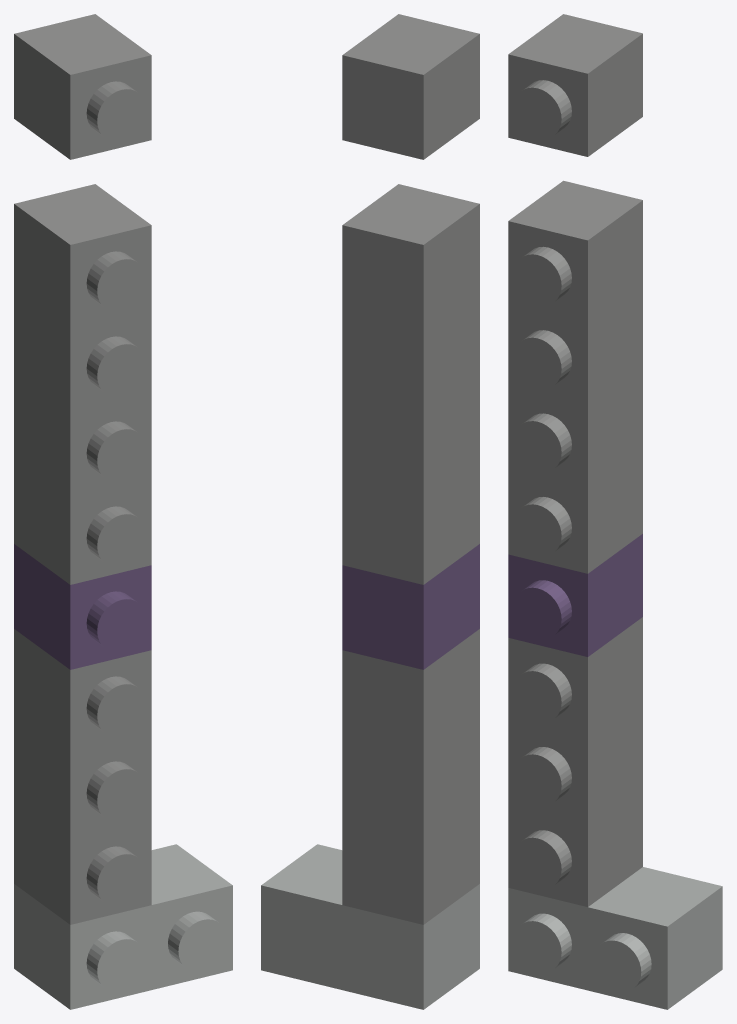
File: current.glb
3 views of the same model, side by side, from view 1: azimuth 30°, elevation 25°; view 2: azimuth 150°, elevation 25°; view 3: azimuth 330°, elevation 25° (orthographic).
Parts seen in each view (by area): view 1: world; view 2: world; view 3: world.
Boxes of the visible parts, x1,y1,x2,y2 form: world: [14, 14, 232, 1009]; world: [261, 14, 479, 1009]; world: [508, 14, 722, 1009].
Size of the model in its own units: 16 by 88 by 11.4.
